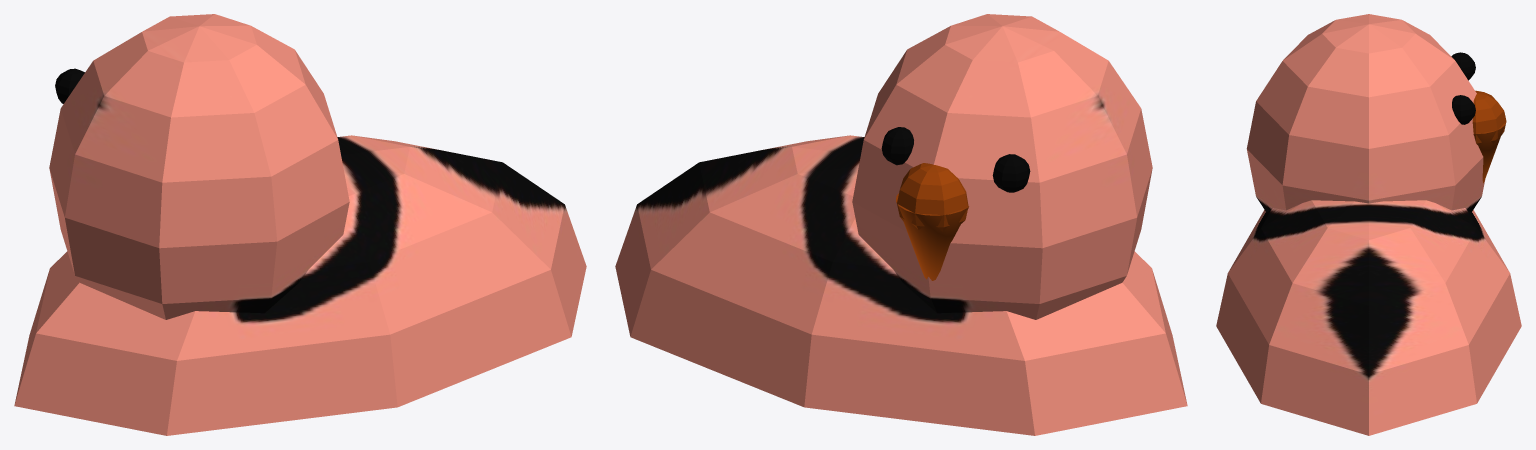
File: Parrot.fbx
3 views of the same model, side by side, from view 1: azimuth 30°, elevation 25°; view 2: azimuth 150°, elevation 25°; view 3: azimuth 270°, elevation 25° (orthographic). The views are drawn at different scales.
Parts seen in each view (by area): view 1: pCone3; view 2: pCone3; view 3: pCone3.
Part boxes in pixels (x1,y1,x2,y2): pCone3: (14,14,586,435); pCone3: (615,14,1187,435); pCone3: (1216,14,1521,435).
Size of the model in its own units: 5.1 by 2.85 by 3.
Materials: 3 (1 with a texture image).
